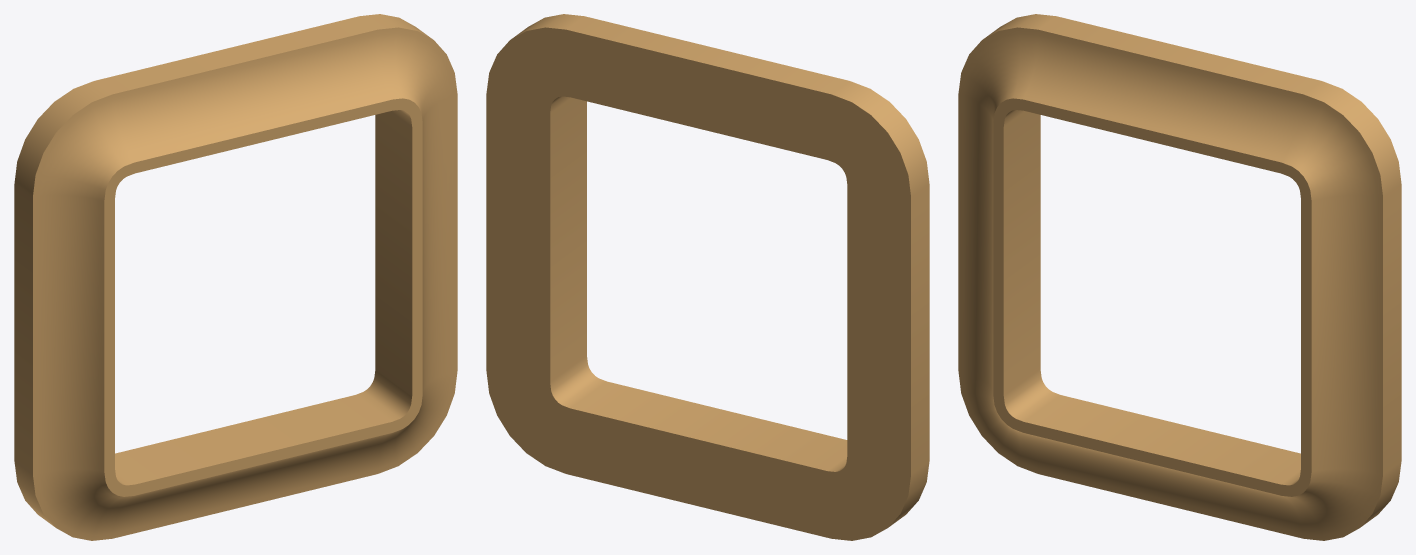
The model's file is original-1.obj.
3 renders of one model, left to right at view 1: azimuth 30°, elevation 25°; view 2: azimuth 150°, elevation 25°; view 3: azimuth 330°, elevation 25°, orthographic.
Parts seen in each view (by area): view 1: Group1/mesh1/mesh1-geometry#mesh1-geometry; view 2: Group1/mesh1/mesh1-geometry#mesh1-geometry; view 3: Group1/mesh1/mesh1-geometry#mesh1-geometry.
Boxes of the visible parts, box(x1,y1,x2,y2) form: Group1/mesh1/mesh1-geometry#mesh1-geometry: box(14, 14, 457, 540); Group1/mesh1/mesh1-geometry#mesh1-geometry: box(486, 14, 929, 540); Group1/mesh1/mesh1-geometry#mesh1-geometry: box(958, 14, 1401, 540).
Bounding box in the file's own units: 1.57 × 1.57 × 0.2358.
